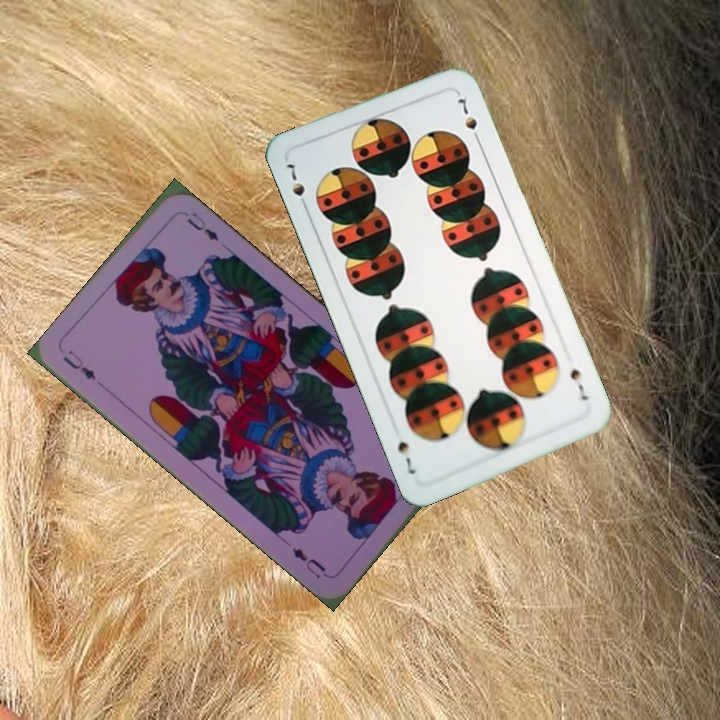EU: (59, 346, 99, 384)
S7: (282, 157, 311, 214), (566, 364, 591, 403)
